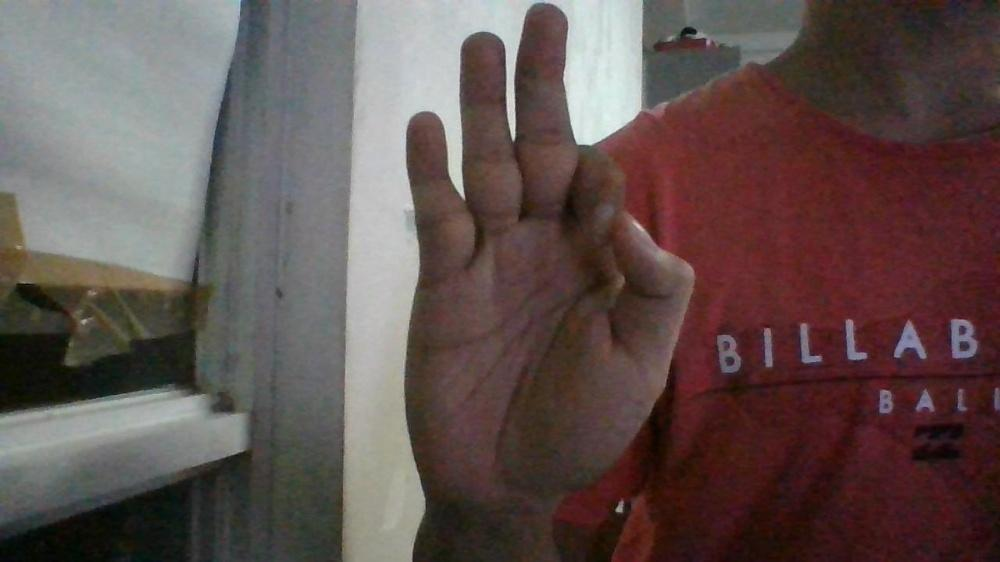f: (401, 0, 697, 507)
